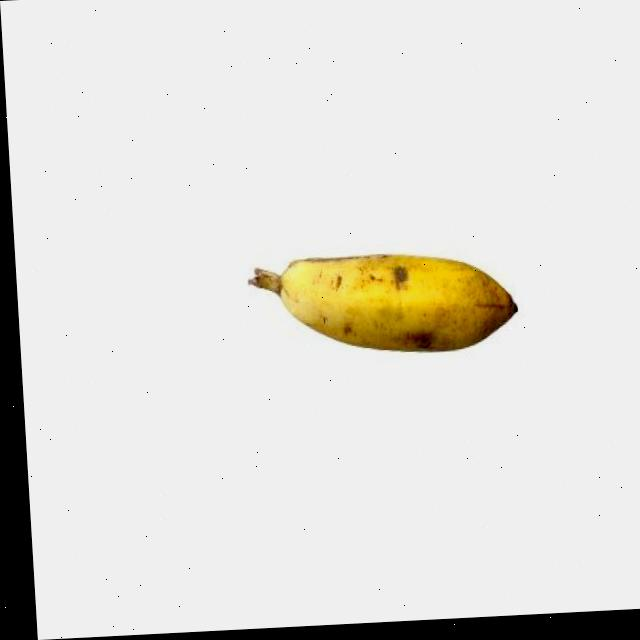banana: (251, 242, 523, 367)
